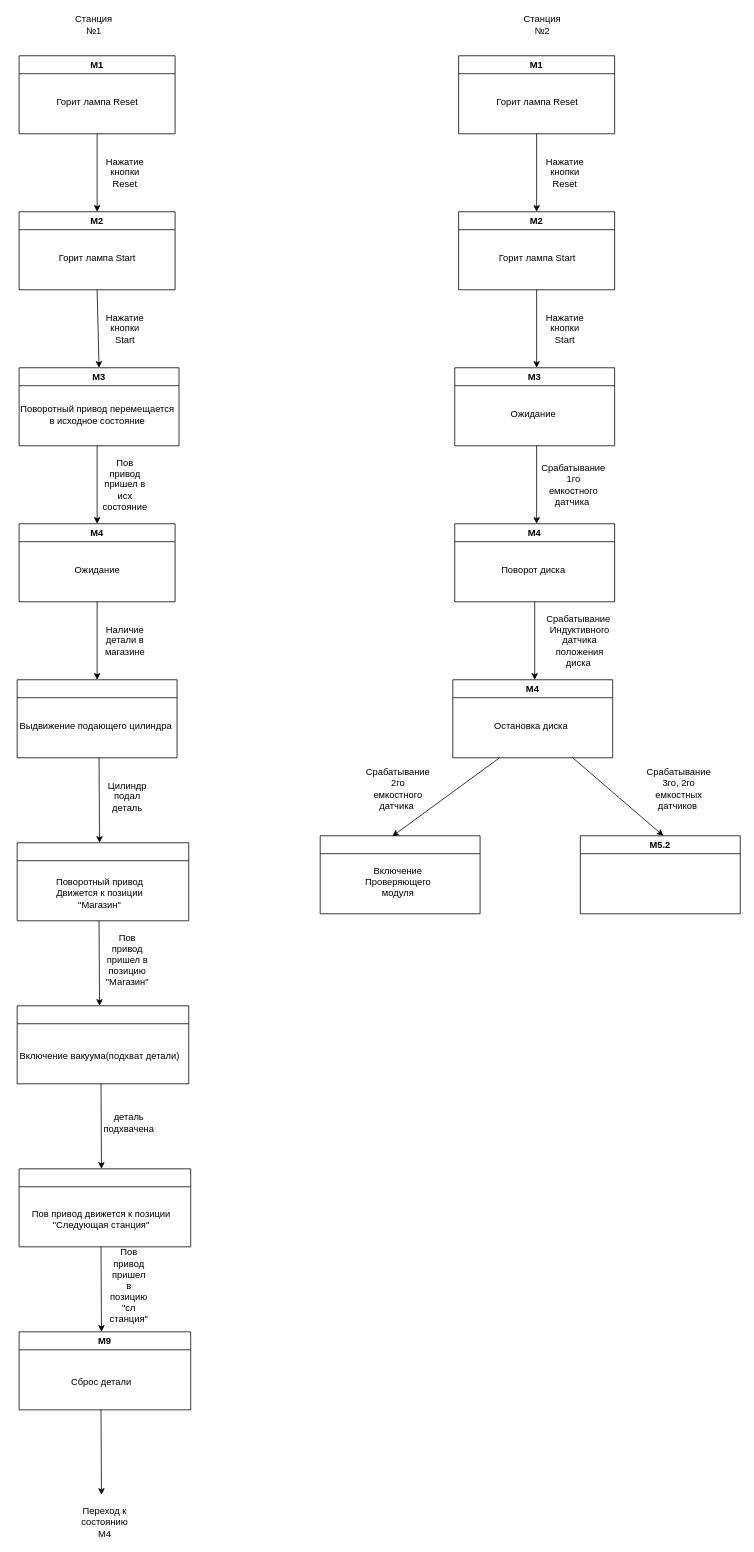
Some shapes in this 754 by 1552 pixel diagram are drawn without their labels. The shapes that lost their labels are listed below. From the top down, each one's box as (x1, y1, x2, y2) in pixels, then its label:
(16, 679, 177, 758): M5
(16, 842, 189, 921): M6
(319, 835, 480, 914): M5.1
(16, 1005, 189, 1084): M7
(18, 1168, 191, 1247): M8
